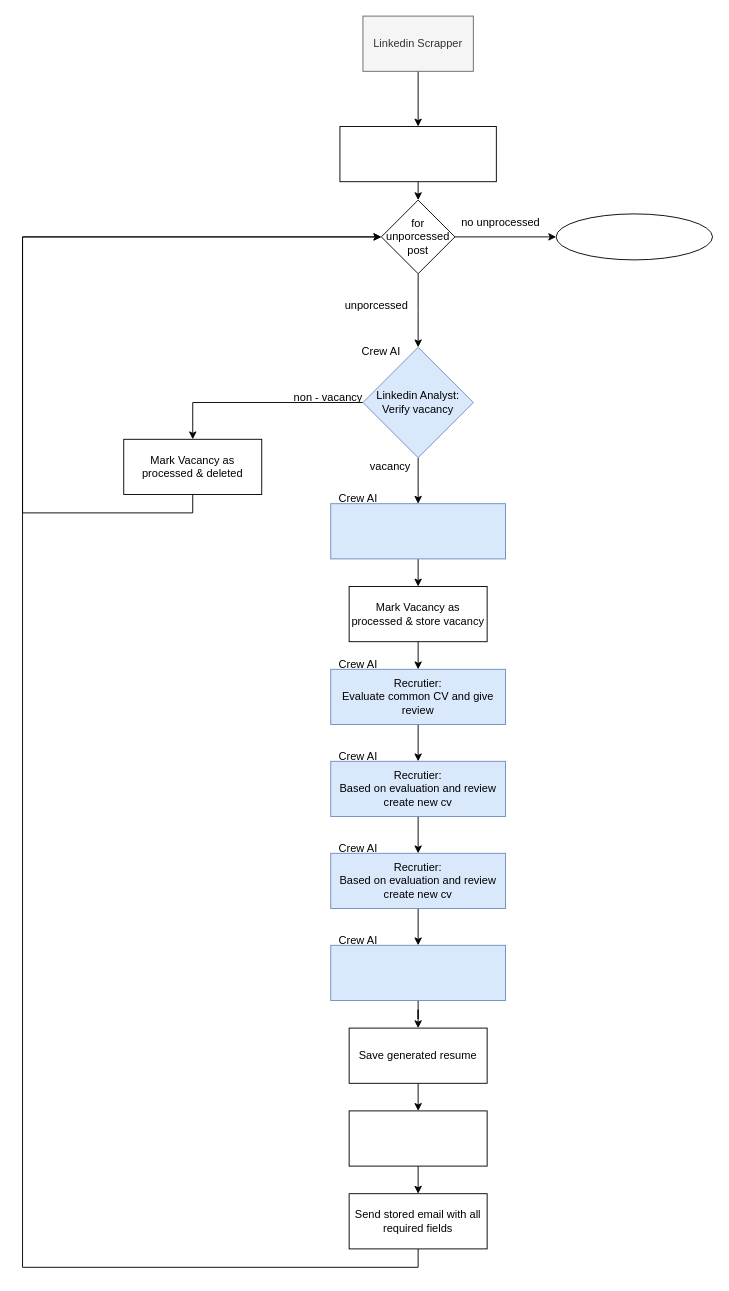
Image size: 729x1291. Some labels were removed from this diagram. Each missing label, with the centre of its shape:
Compare with stored and store: the point at 417,154
End: the point at 634,236
Linkedin Analyst: Validate and aquire data from vacancy: the point at 418,531
Recrutier: Based on CV create Cover Letter and email: the point at 418,972
Store evaluation, resume and email in database: the point at 417,1138
